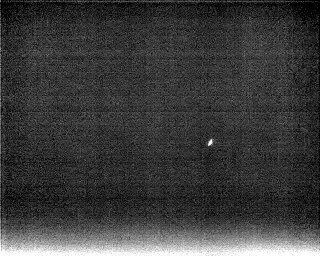BIRD: (205, 137, 216, 150)
